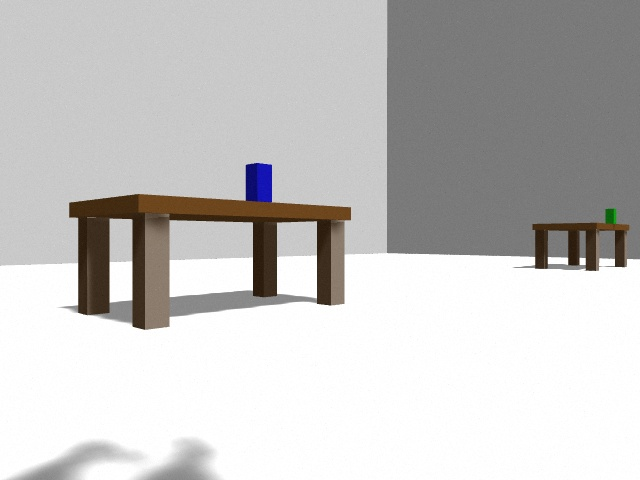blue_cube: (246, 163, 272, 202)
green_cube: (605, 209, 616, 224)
